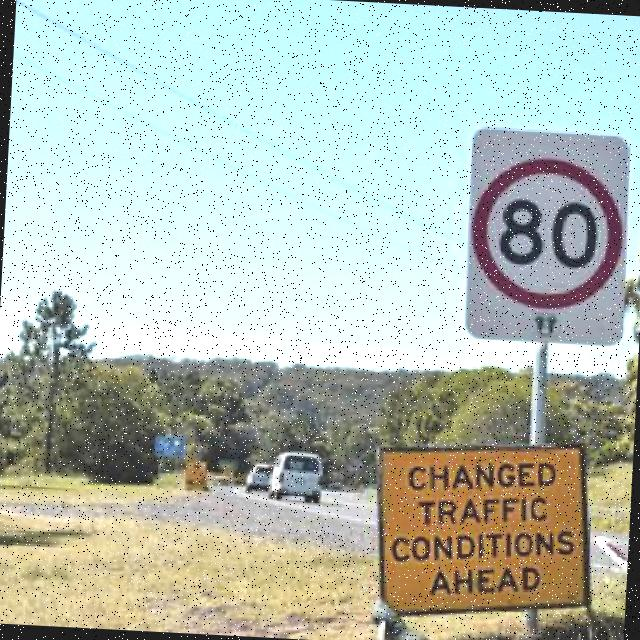Ograniczenie predkosci do 80: (472, 162, 622, 312)
